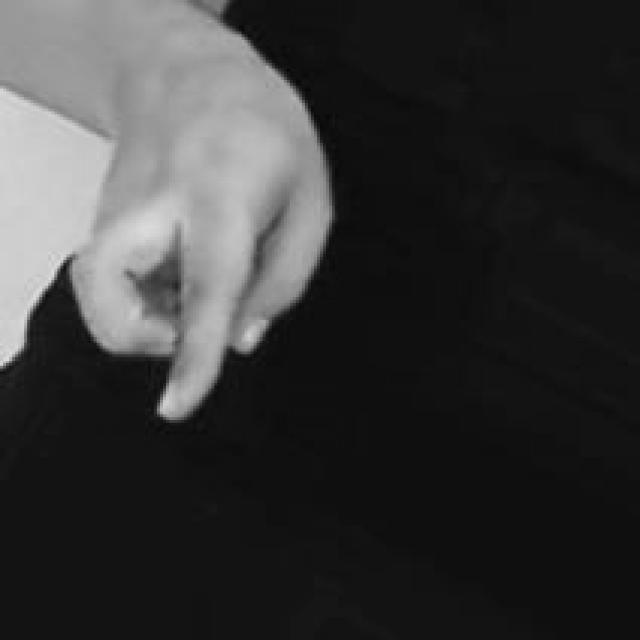P: (0, 0, 340, 428)
